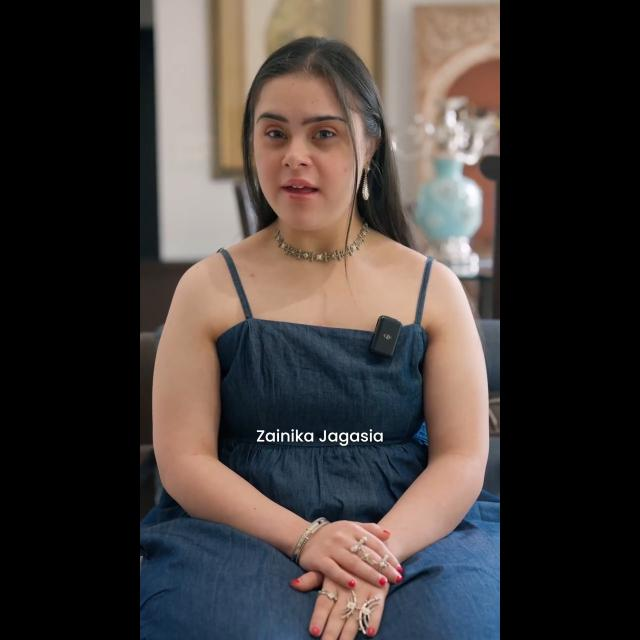dress: (158, 238, 500, 640)
ring: (344, 591, 376, 631), (352, 538, 388, 568), (318, 583, 339, 605)
